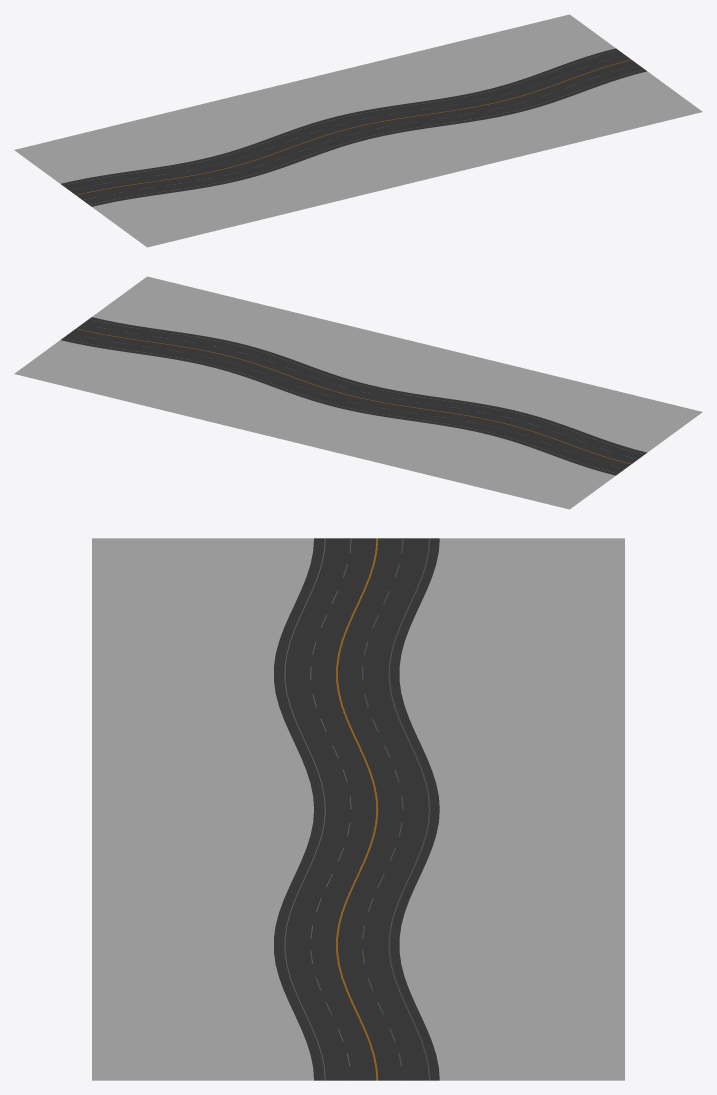
File: BigWave.fbx
3 renders of one model, top to bottom at view 1: azimuth 30°, elevation 25°; view 2: azimuth 150°, elevation 25°; view 3: azimuth 270°, elevation 25°, orthographic. The views are drawn at different scales.
Visible parts, largest first — view 1: bigwave_backsideR, bigwave_backsideR1, bigwaveRoad1; view 2: bigwave_backsideR, bigwave_backsideR1, bigwaveRoad1; view 3: bigwave_backsideR, bigwave_backsideR1, bigwaveRoad1.
Boxes of the visible parts, x1=… form: bigwave_backsideR: x1=14, y1=14, x2=615, y2=183; bigwave_backsideR1: x1=92, y1=71, x2=702, y2=247; bigwaveRoad1: x1=61, y1=48, x2=646, y2=206; bigwave_backsideR: x1=14, y1=340, x2=615, y2=509; bigwave_backsideR1: x1=92, y1=276, x2=702, y2=452; bigwaveRoad1: x1=61, y1=317, x2=646, y2=475; bigwave_backsideR: x1=399, y1=538, x2=624, y2=1080; bigwave_backsideR1: x1=92, y1=538, x2=313, y2=1080; bigwaveRoad1: x1=274, y1=538, x2=439, y2=1080.
Bounding box in the file's own units: 20075 × 0.000122 × 8339.
